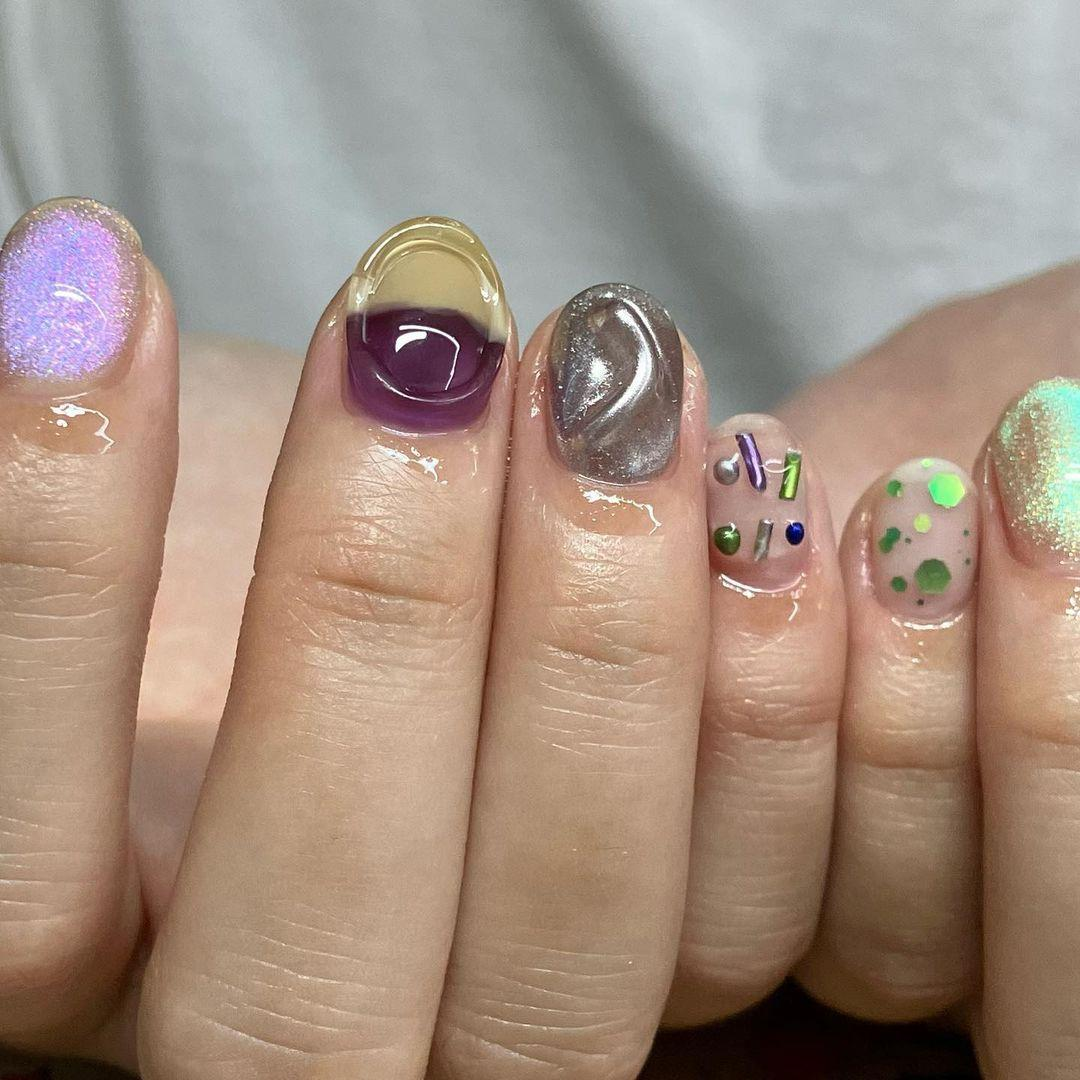nail: (428, 280, 711, 1078), (341, 214, 512, 434), (0, 194, 145, 397), (544, 280, 685, 485), (867, 454, 979, 627), (705, 412, 808, 571)
